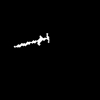double_crochet: (14, 34, 48, 46)
